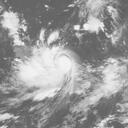cyclone: (20, 47, 78, 97)
